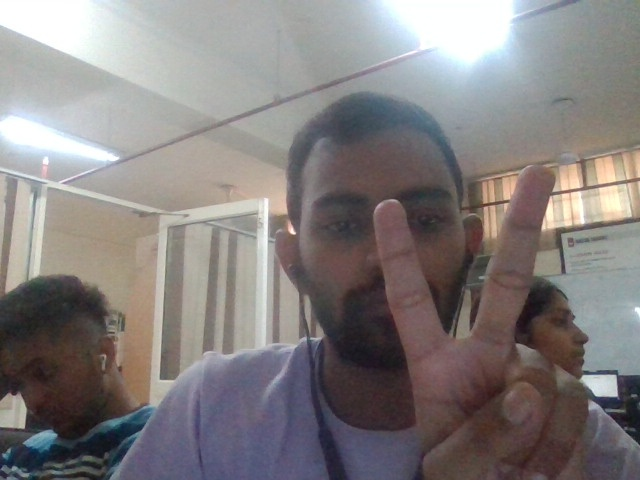ThankYou: (371, 166, 587, 480)
